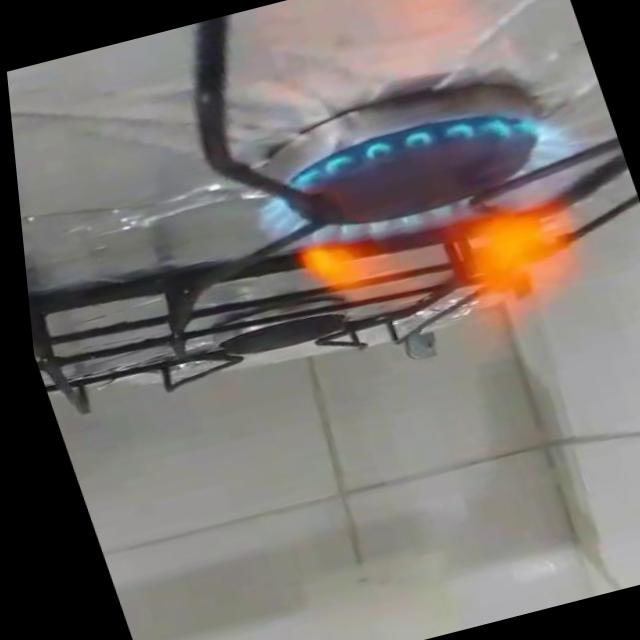Fire: (224, 87, 640, 402)
